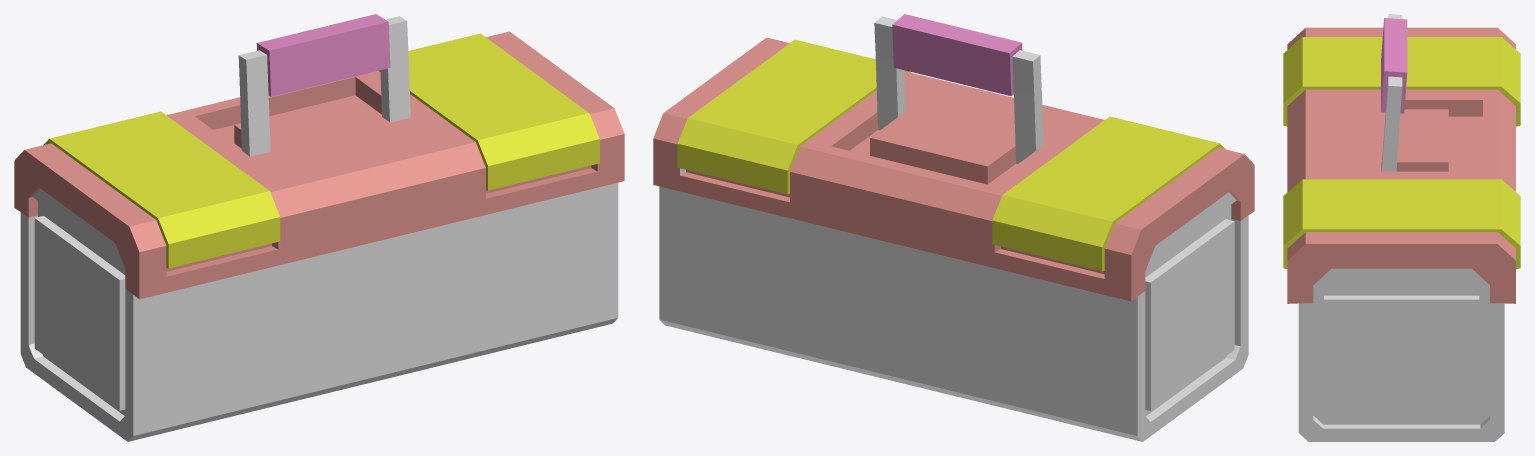
The model's file is Toolbox.fbx.
3 views of the same model, side by side, from view 1: azimuth 30°, elevation 25°; view 2: azimuth 150°, elevation 25°; view 3: azimuth 270°, elevation 25° (orthographic). The views are drawn at different scales.
Parts seen in each view (by area): view 1: Cube.020; view 2: Cube.020; view 3: Cube.020.
Part boxes in pixels (x1=…): Cube.020: x1=14, y1=14, x2=624, y2=441; Cube.020: x1=653, y1=14, x2=1254, y2=441; Cube.020: x1=1283, y1=14, x2=1520, y2=441.
Bounding box in the file's own units: 46.73 × 29.11 × 21.64.
